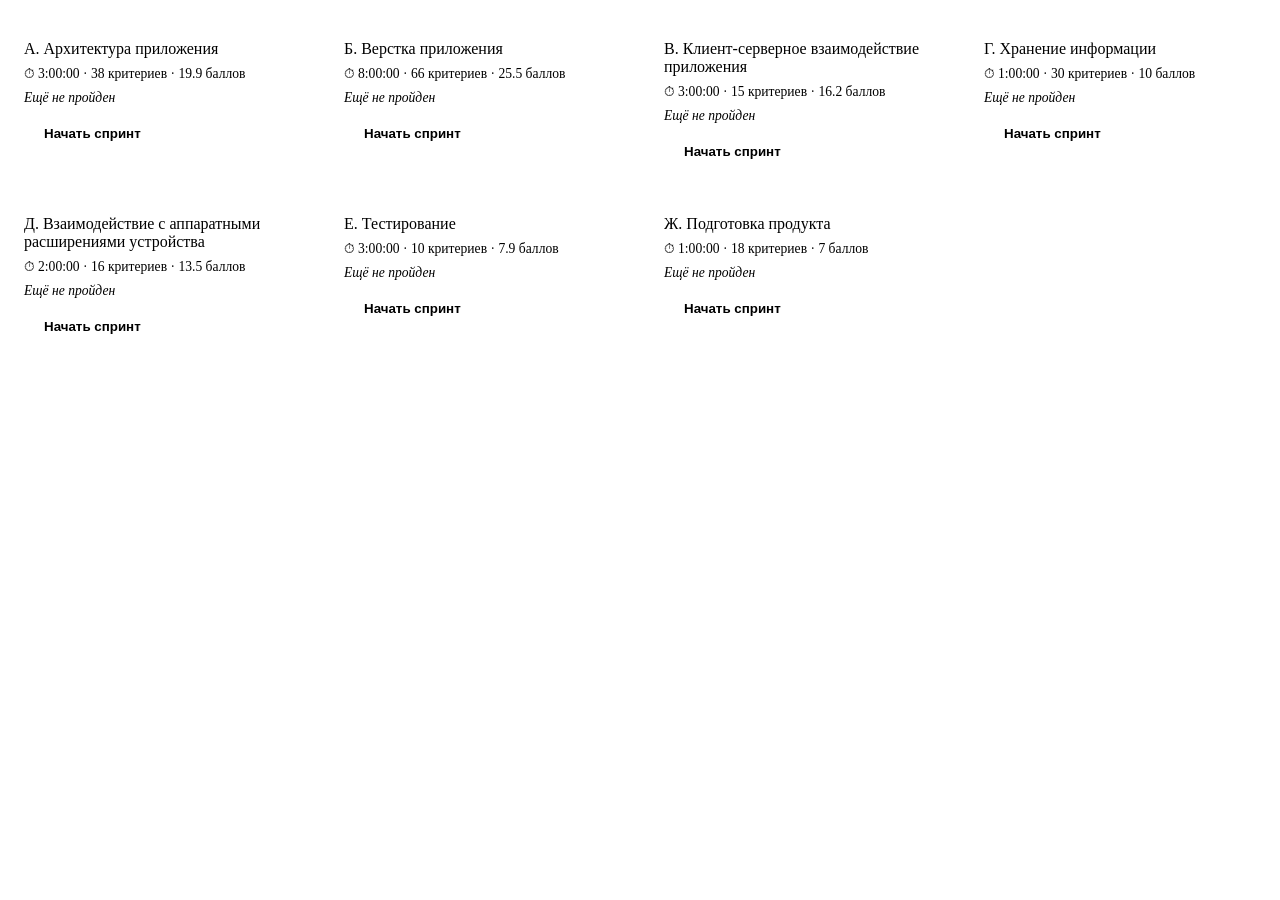
custom break input starts a break of the given minutes
Click the button "Начать спринт" below "18" at point(732, 308), box [664,293,801,324]
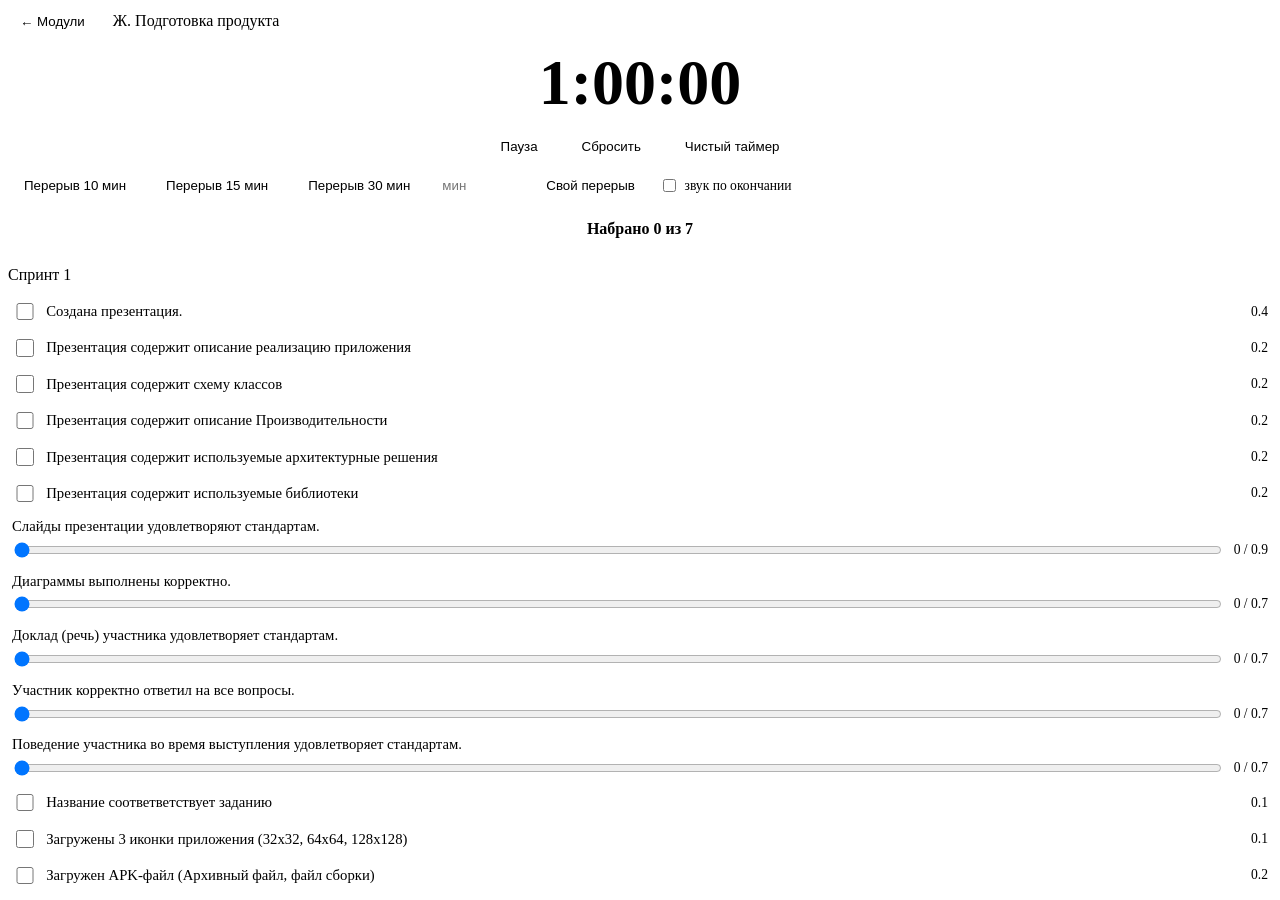
Type "5" into the number field named "Свой перерыв, минут" at point(478, 186), box [434,173,522,199]
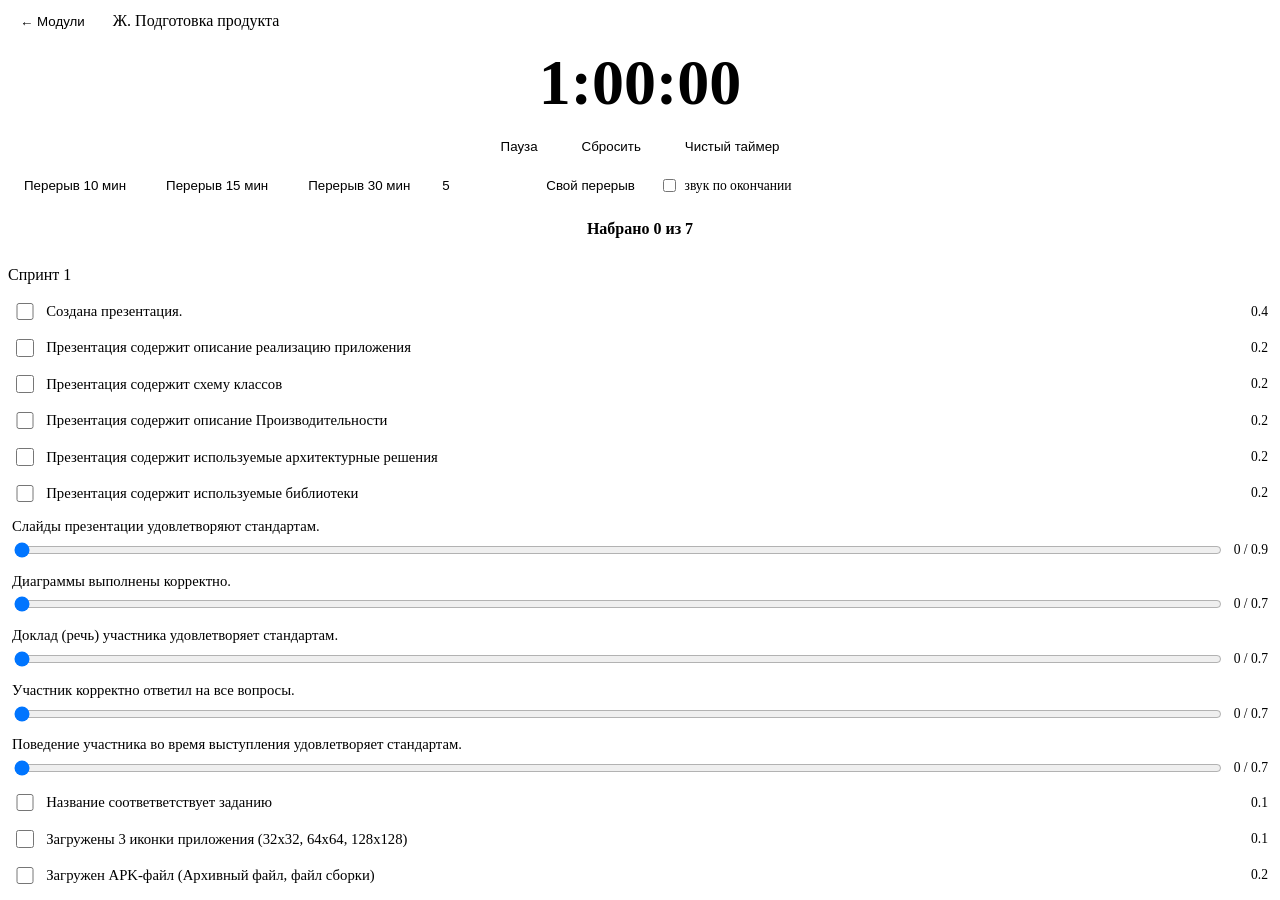
Click the button "Свой перерыв" at point(591, 186), box [530,172,651,200]
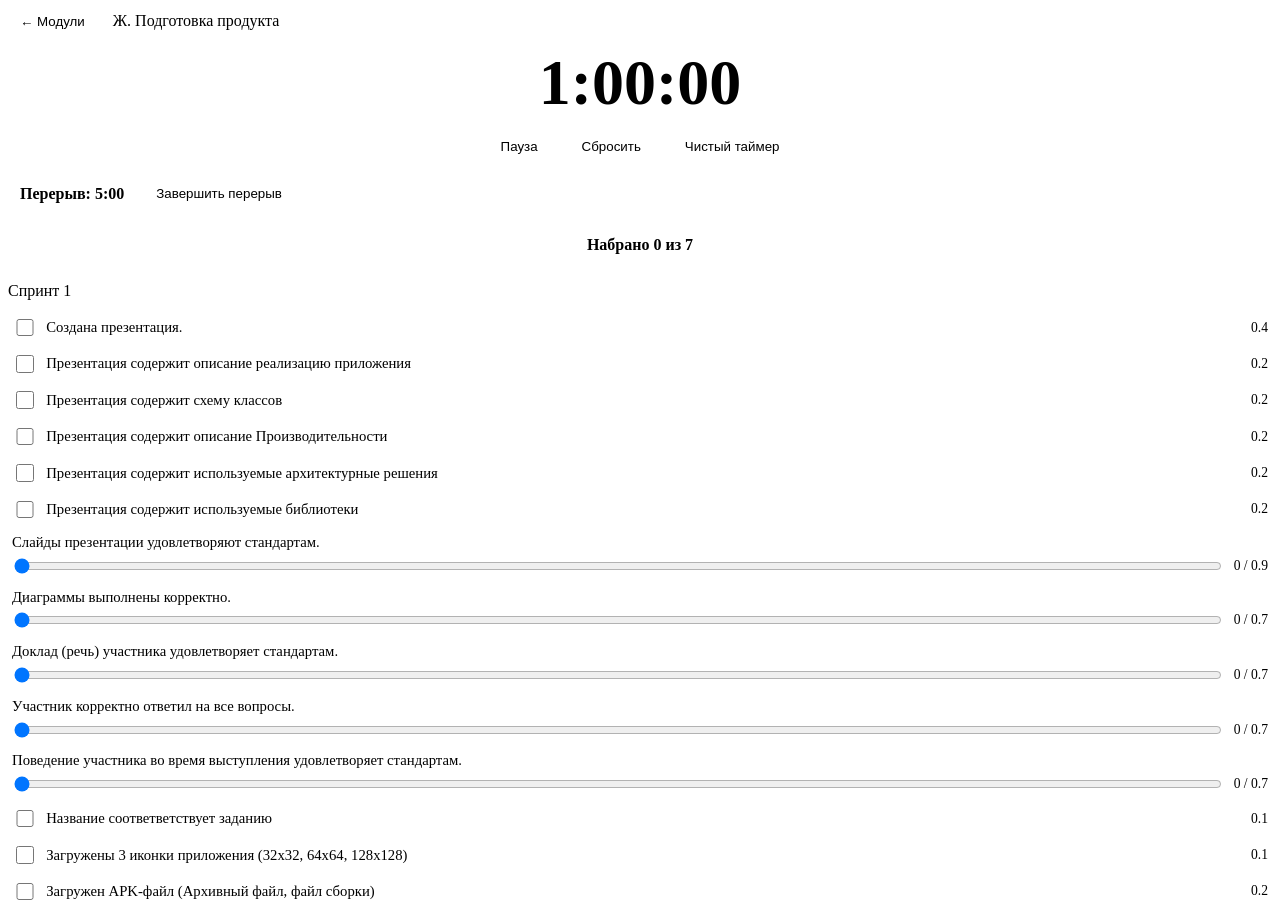
Check: the text "Перерыв: 5:00" is shown, box [20,185,124,203]
